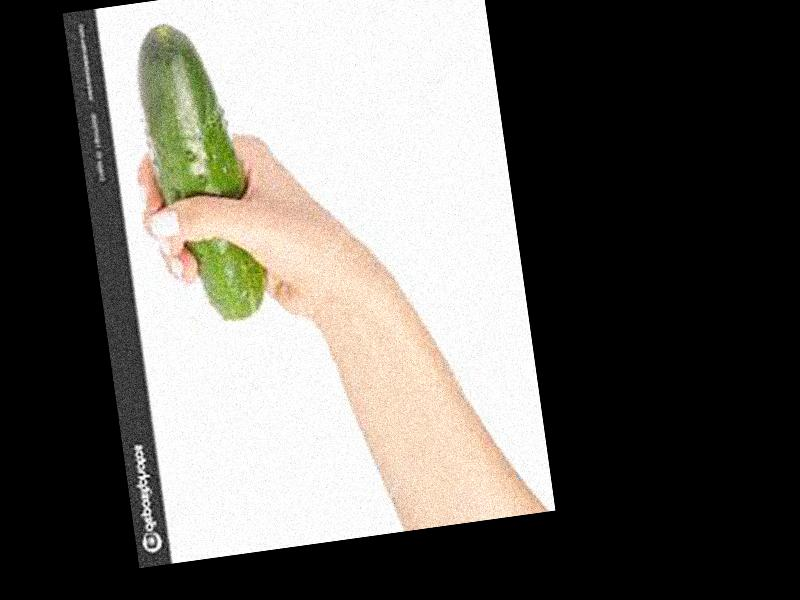Cucumber: (129, 12, 269, 327)
